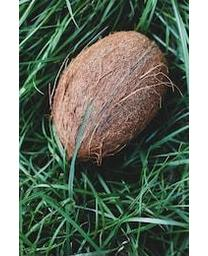coconut: (45, 29, 171, 163)
